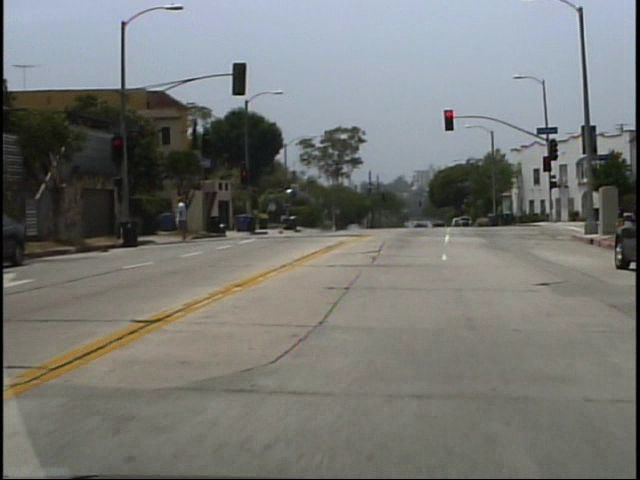person: (179, 196, 198, 242), (181, 202, 187, 240)
